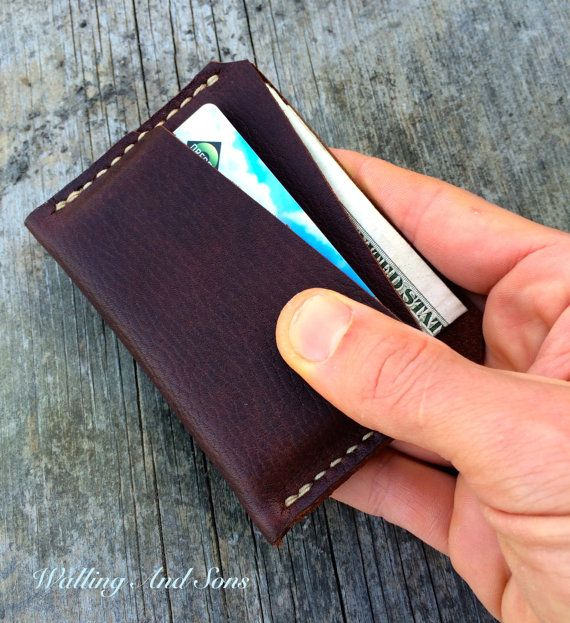monedero: (23, 56, 490, 550)
